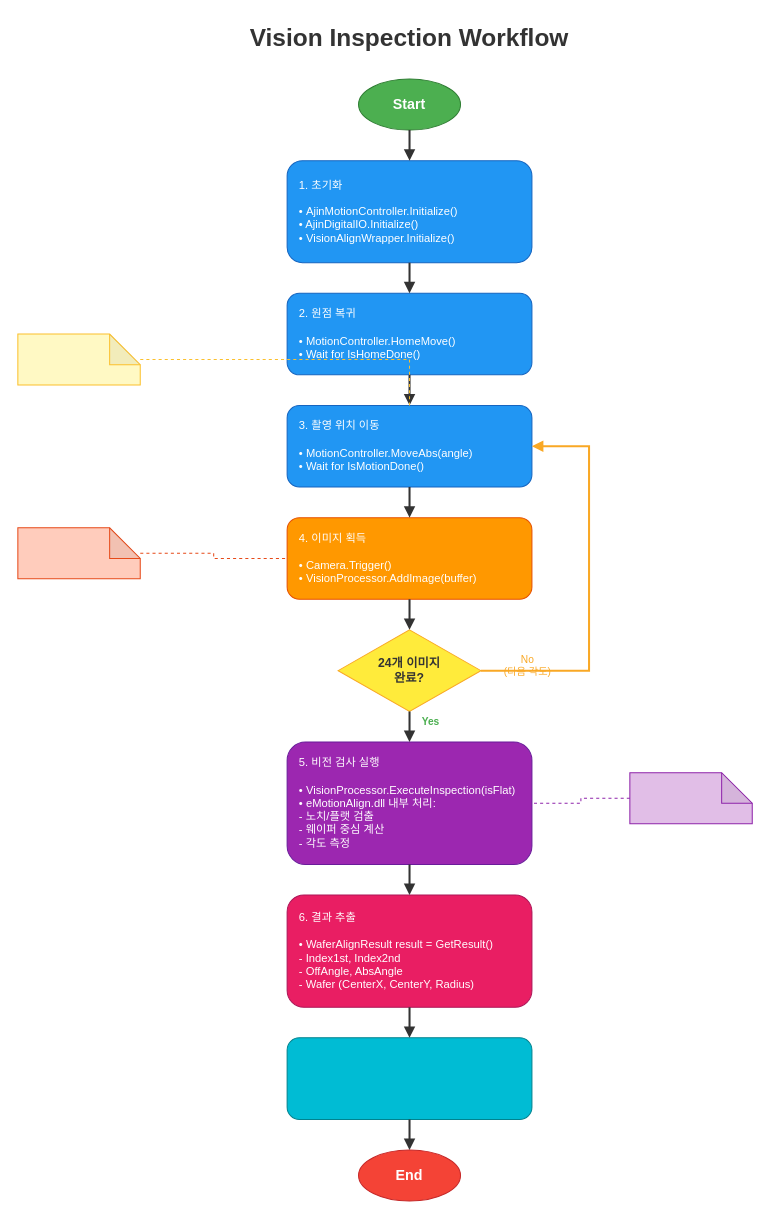
The diagram is 770 pixels wide and 1219 high, and some of its shapes have lost their labels. Each missing label, with the centre of its shape:
7. 보정 이동 • 각도 보정: MoveRel(OffAngle) • 위치 보정: MoveAbsMulti(CenterX, CenterY): (x=409, y=1078)
AJIN EtherCAT 모션 컨트롤러: (x=78, y=359)
eMotionAlign.dll 비전 엔진: (x=690, y=798)
카메라 (추가 구현 필요): (x=78, y=553)
